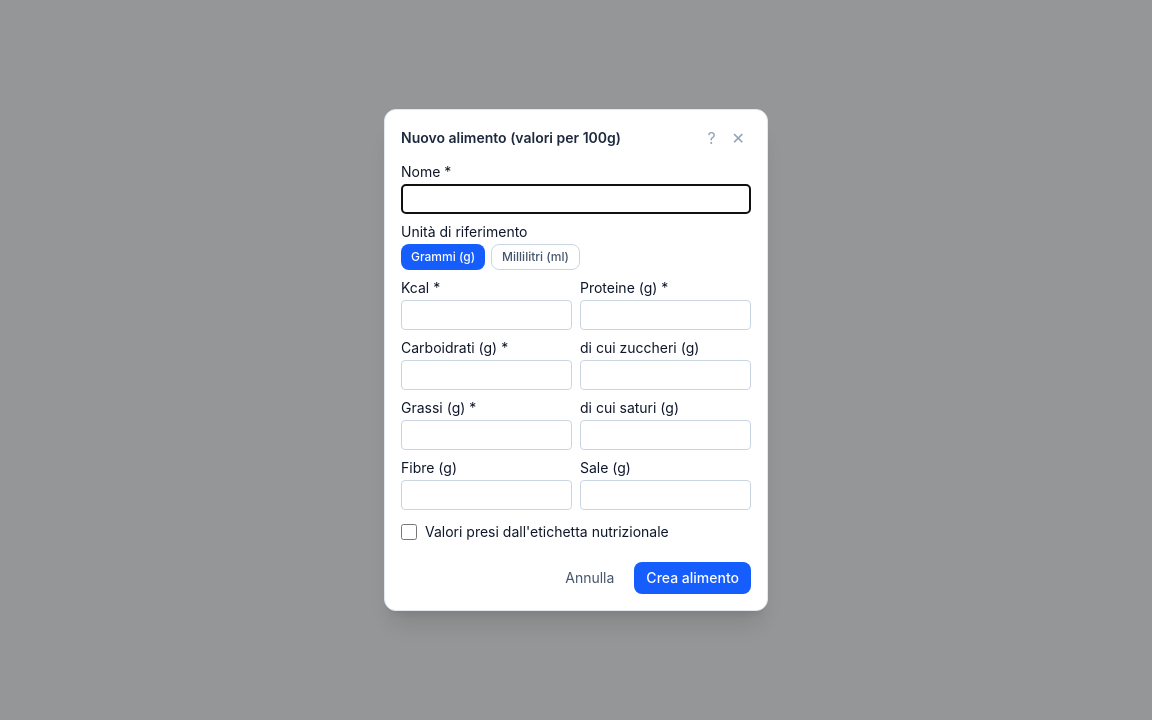
Scenario: AlimentoFormModal - nuovo alimento › AlimentoFormModal_campoObbligatorioMancante_mostraErroreSenzaSalvare
In the field labelled "Nome *": (576, 199) [401, 184, 751, 214], type "Pasta"
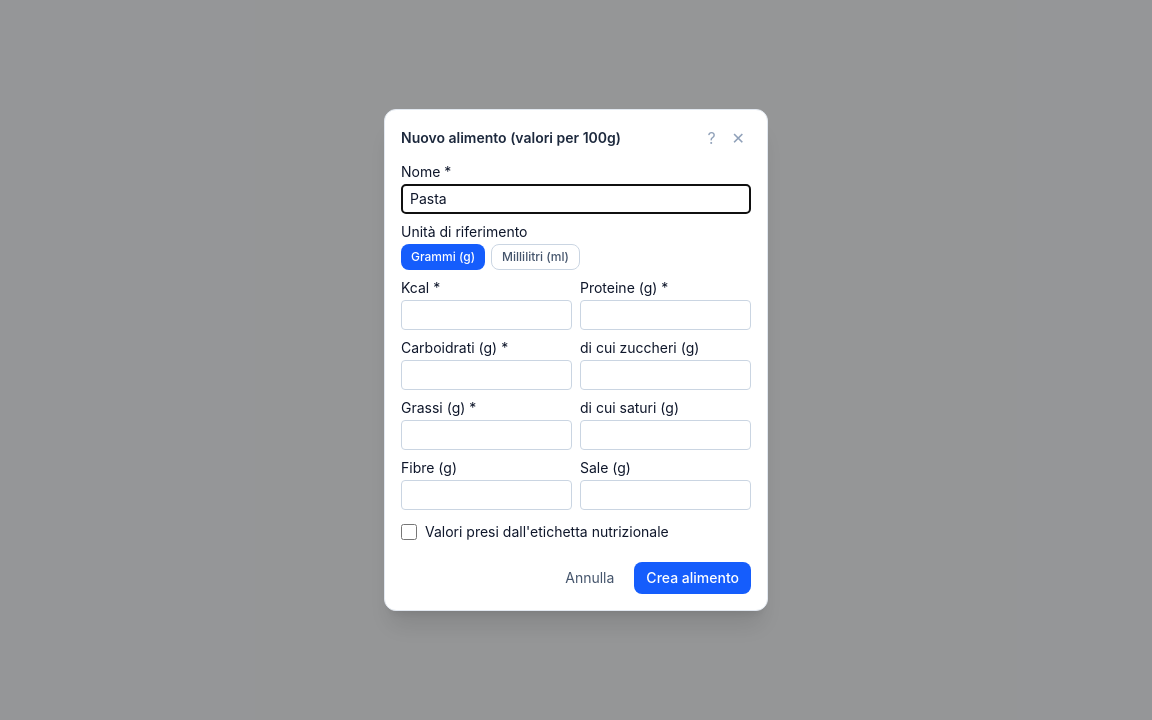
In the number field labelled "Proteine (g) *": (666, 315) [580, 300, 751, 330], type "12"
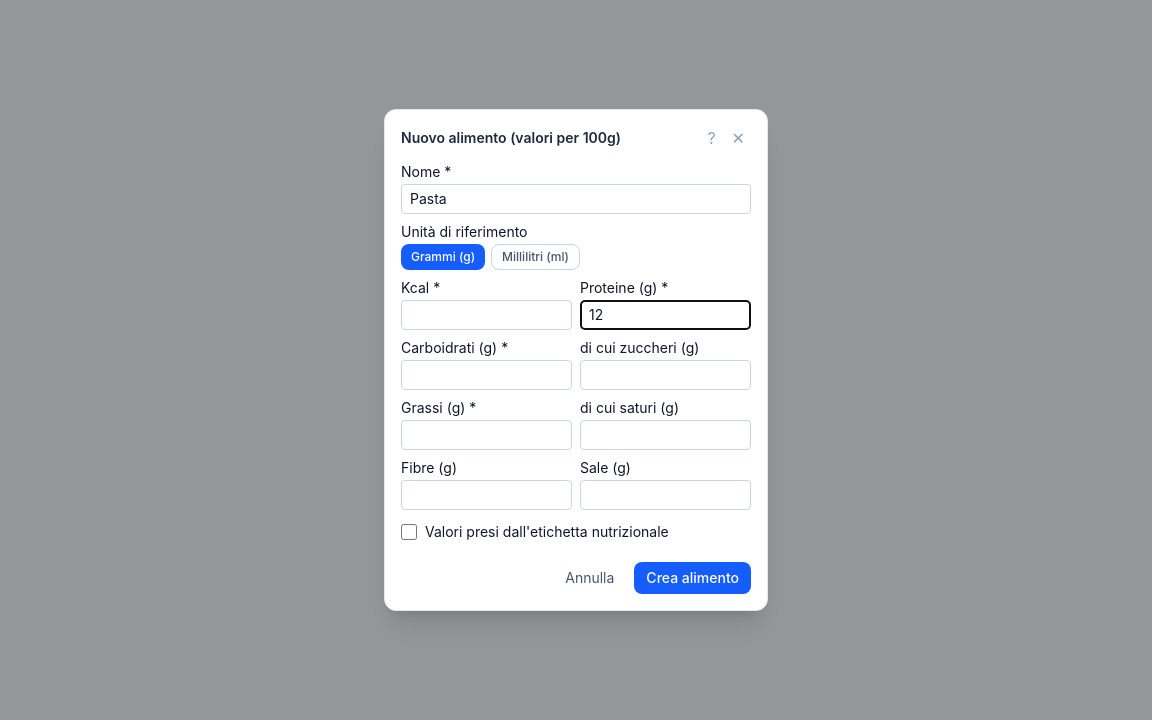
In the number field labelled "Carboidrati (g) *": (486, 375) [401, 360, 572, 390], type "70"
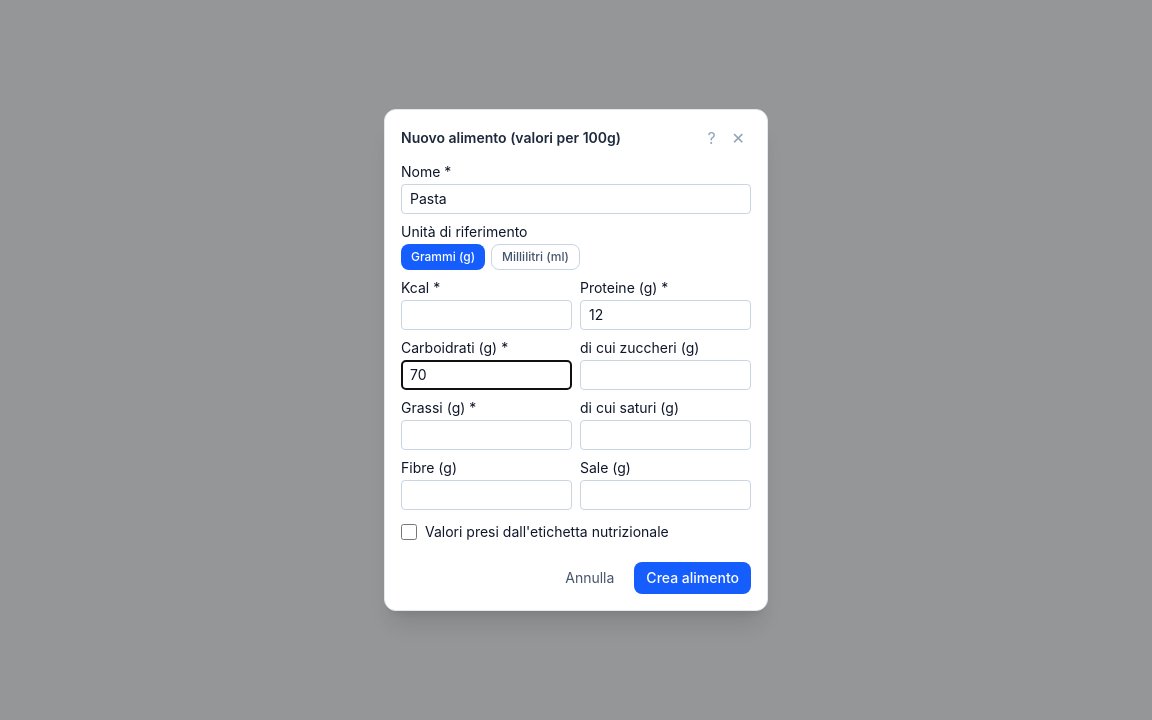
In the number field labelled "Grassi (g) *": (486, 435) [401, 420, 572, 450], type "2"
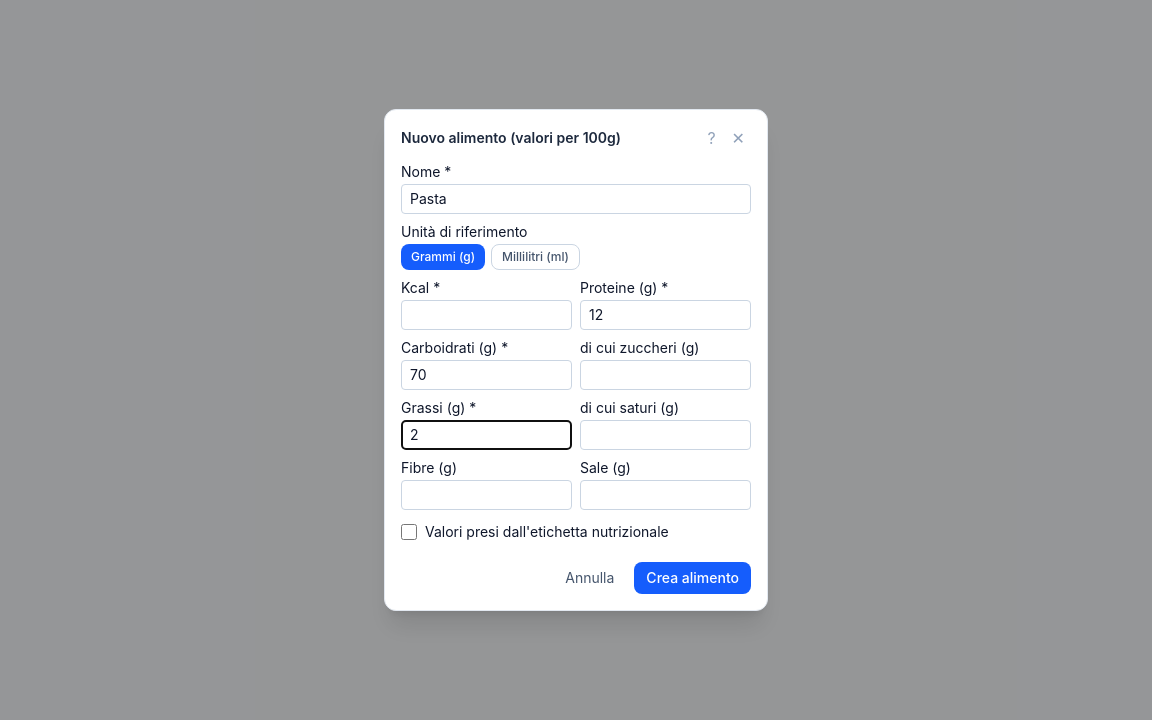
Click the button "Crea alimento": (693, 578) [634, 562, 751, 594]
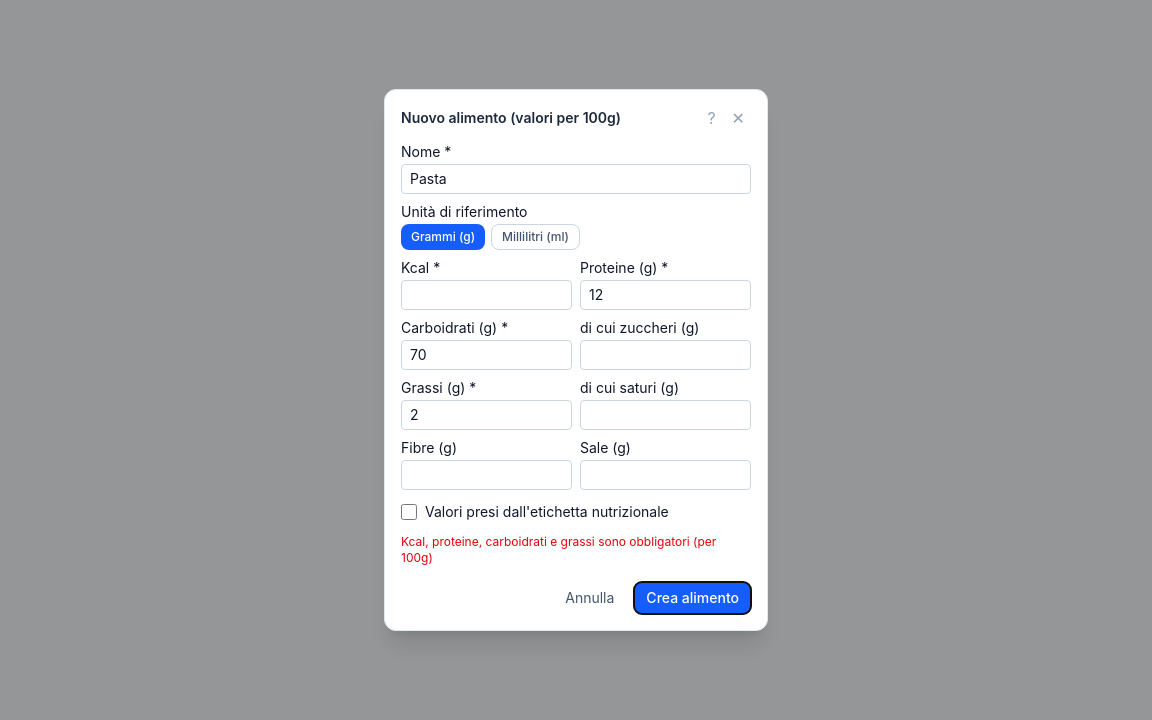
Expected: the text "sono obbligatori" is shown, [401, 534, 716, 565]
